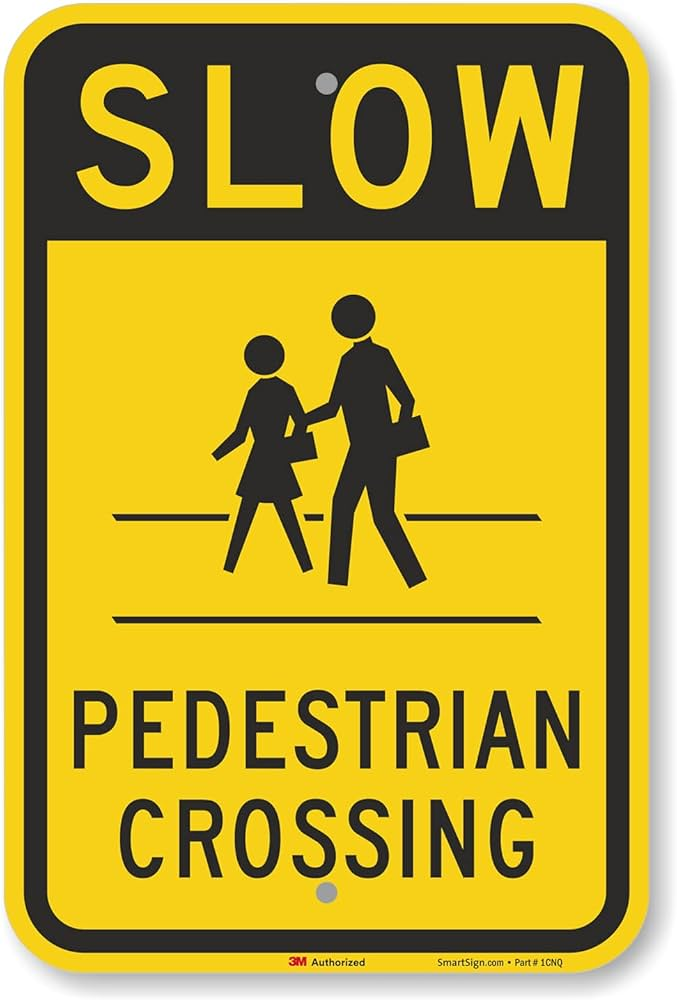CrossSign: (8, 6, 653, 981)
